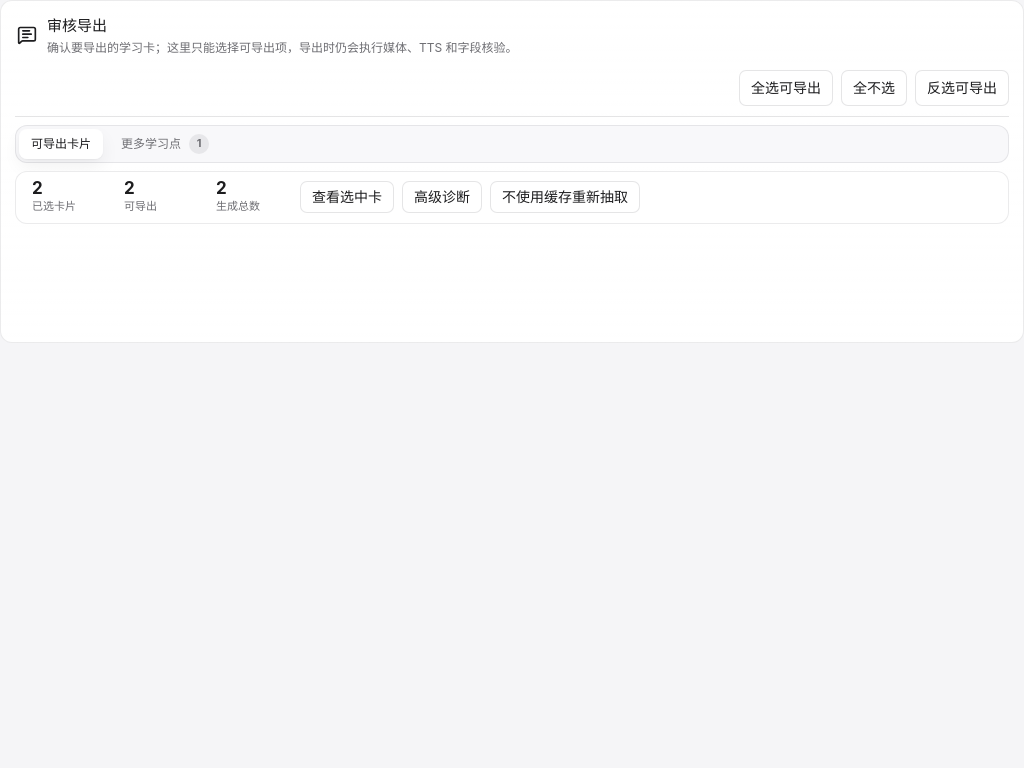
Scenario: ReviewWorkspace › shows learning point diagnostics with kind filters
Click the button "更多学习点 1": [165, 144] box [109,129,221,159]
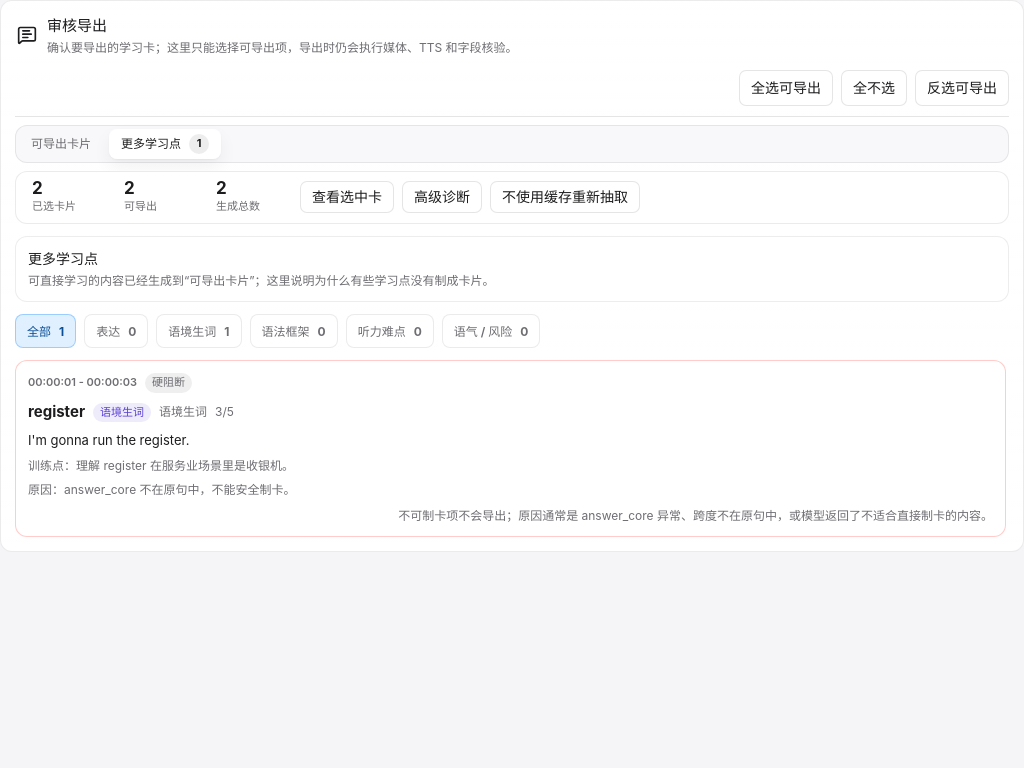
Expected: the text "register" is shown, [28,401,85,423]
Expected: the text "训练点：理解 register 在服务业场景里是收银机。" is shown, [28,458,294,473]
Expected: the button "语境生词 1" is shown, [156,314,242,348]
